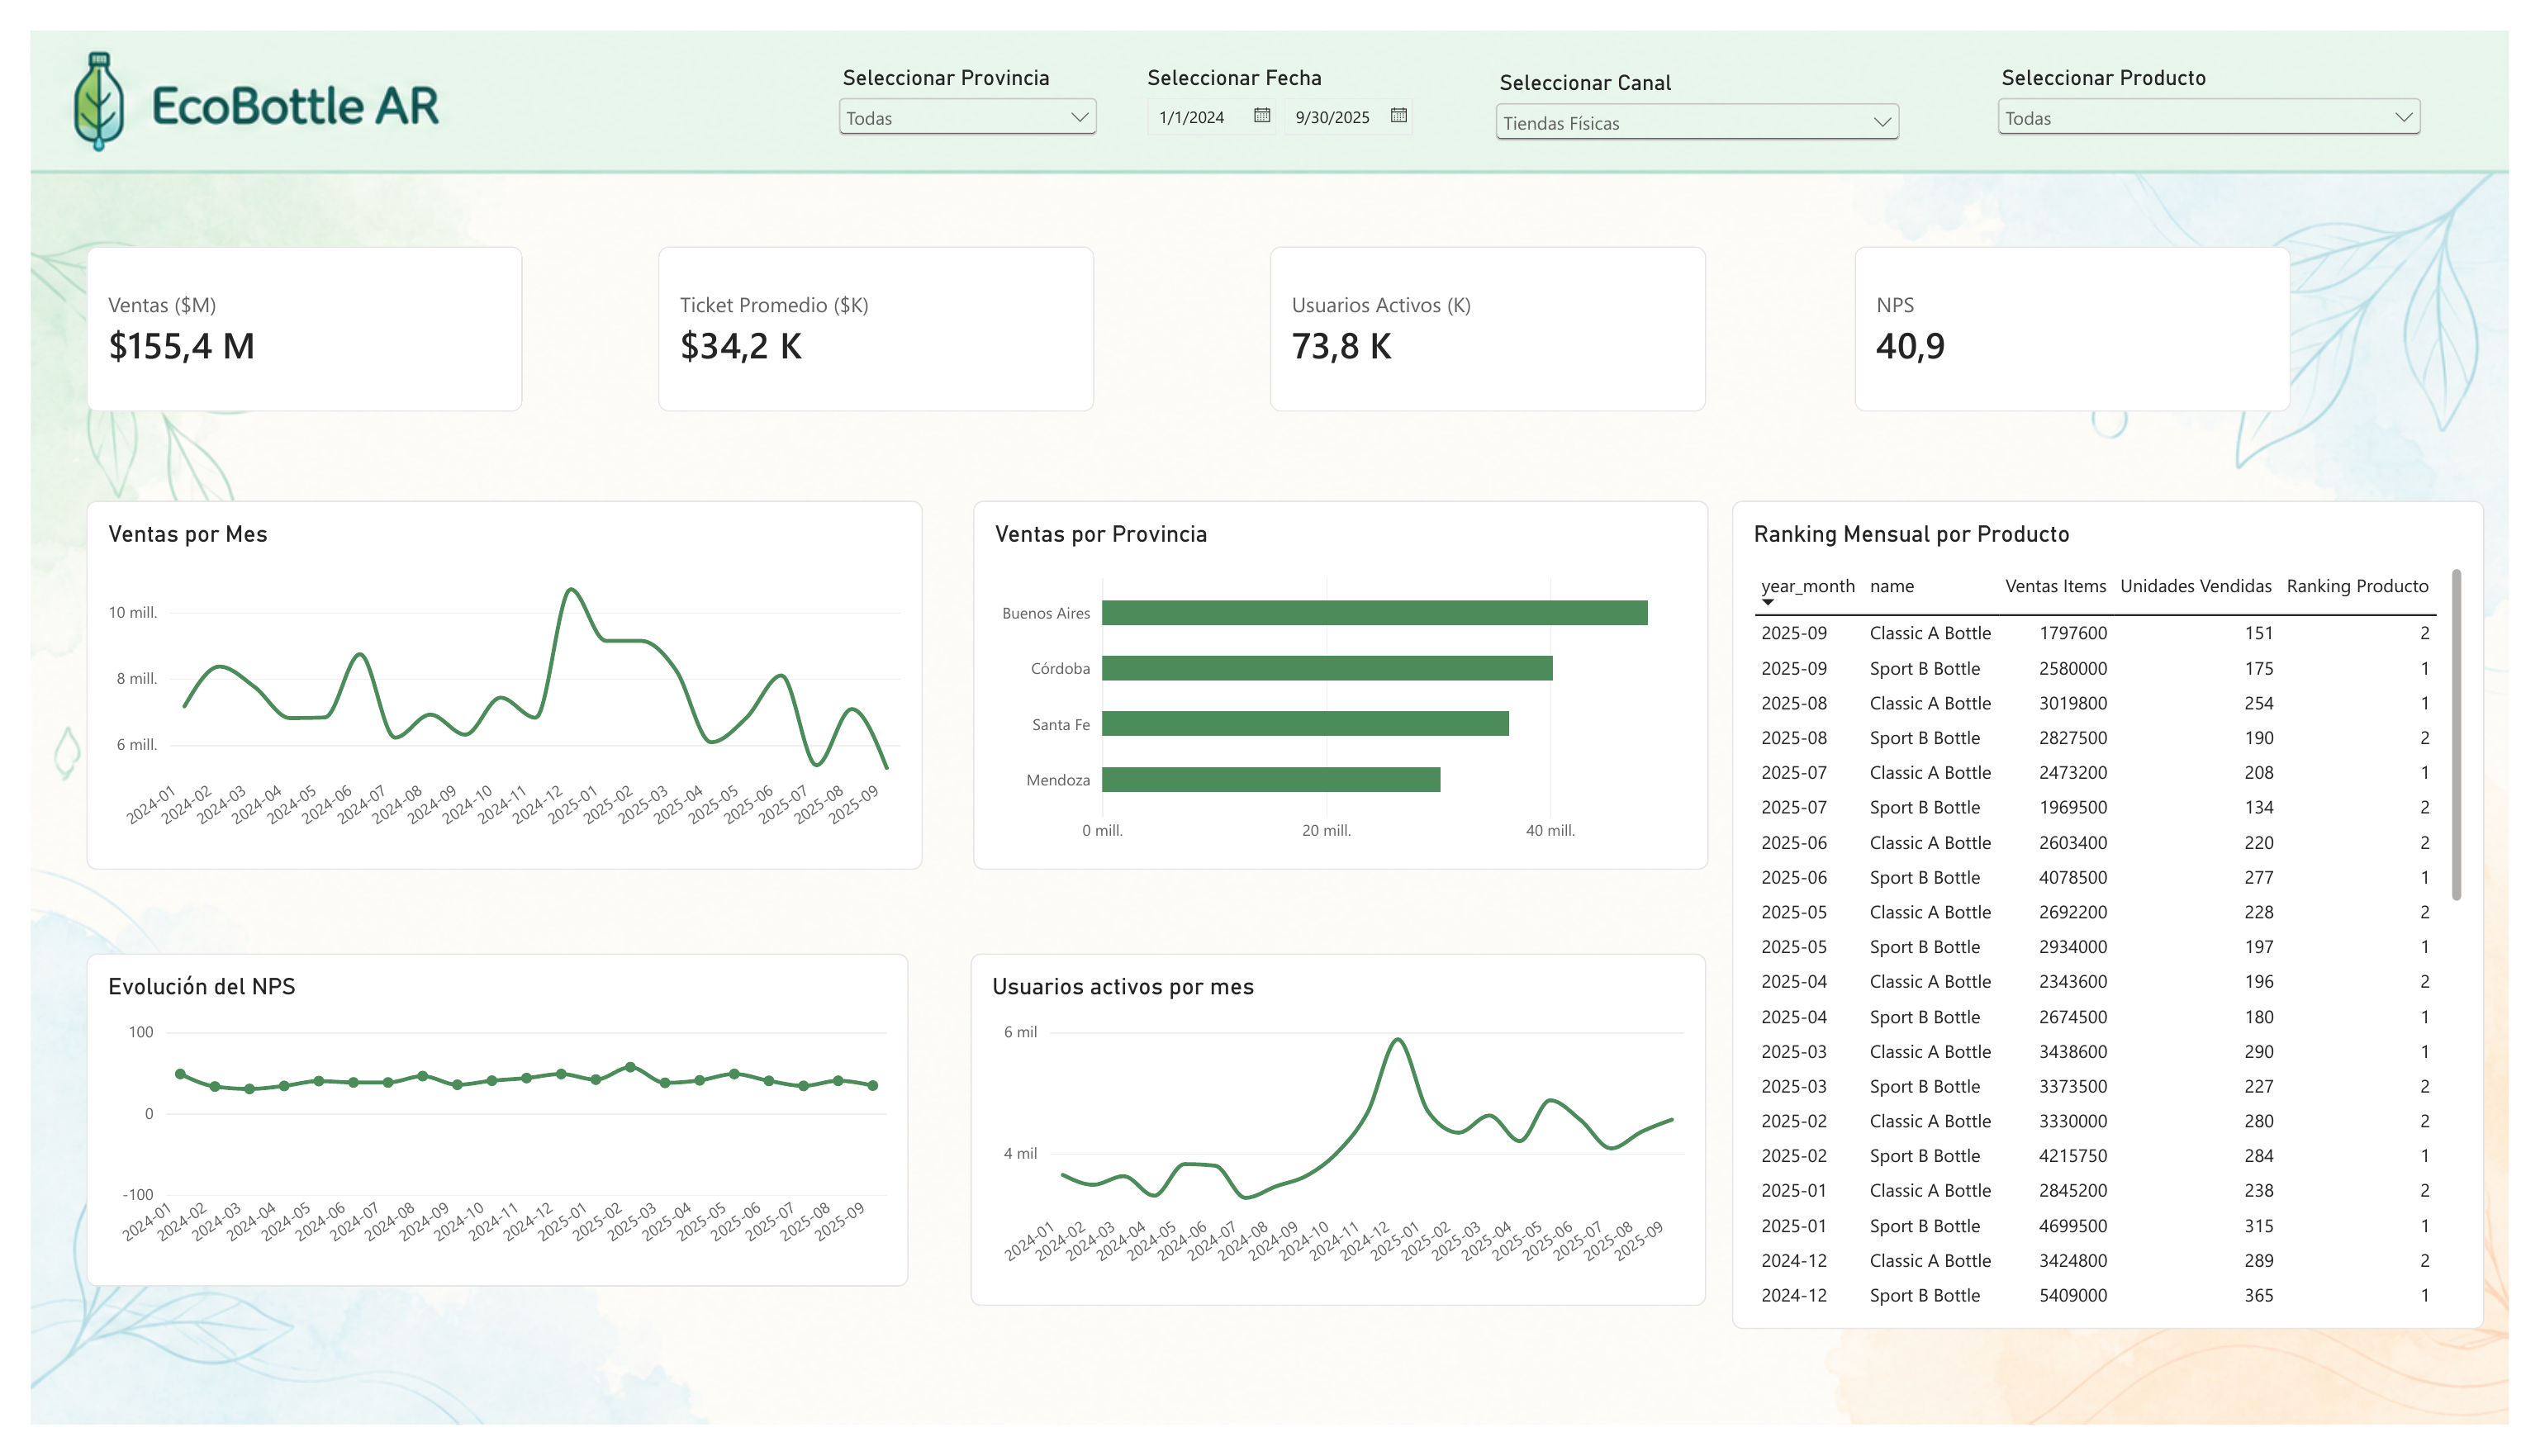

The dashboard page shown, as its layout file describes it:
{"tool":"powerbi","page":{"name":"Página 1","canvas":[1920,1080],"ordinal":0},"visuals":[{"type":"cardVisual","title":"VENTAS","fields":{"Data":["fact_sales_order.Ventas ($M)"]},"box":[42.7,167.1,337.9,128.1],"z":1},{"type":"lineChart","title":"Ventas por Mes","fields":{"Category":["dim_date.year_month"],"Y":["fact_sales_order.Ventas"]},"box":[42.7,363.9,648,286],"z":2},{"type":"barChart","title":"Ventas por Provincia","fields":{"Category":["dim_province.name"],"Y":["fact_sales_order.Ventas"]},"box":[729.7,363.9,570.1,286],"z":3},{"type":"lineChart","title":"Evolución del NPS","fields":{"Category":["dim_date.year_month"],"Y":["fact_nps.NPS"]},"box":[42.7,714.9,636.9,258.1],"z":4},{"type":"lineChart","title":"Usuarios activos por mes","fields":{"Category":["dim_date.year_month"],"Y":["fact_web_session.Usuarios Activos"]},"box":[727.9,714.9,570.1,273],"z":5},{"type":"cardVisual","fields":{"Data":["fact_sales_order.Ticket Promedio ($K)"]},"box":[486.5,167.1,337.9,128.1],"z":6},{"type":"cardVisual","fields":{"Data":["fact_web_session.Usuarios Activos (K)"]},"box":[960,167.1,337.9,128.1],"z":7},{"type":"cardVisual","fields":{"Data":["fact_nps.NPS (texto)"]},"box":[1413.1,167.1,337.9,128.1],"z":8},{"type":"tableEx","title":"Ranking Mensual por Producto","fields":{"Values":["dim_date.year_month","dim_product.name","fact_sales_item.Ventas Items","fact_sales_item.Unidades Vendidas","fact_sales_item.Ranking Producto"]},"box":[1318.4,363.9,583.1,642.5],"z":10},{"type":"slicer","fields":{"Values":["dim_province.name"]},"box":[621.3,25.5,209.8,65],"z":11},{"type":"slicer","fields":{"Values":["dim_date.full_date"]},"box":[857.4,25.5,273,154],"z":12},{"type":"slicer","fields":{"Values":["dim_channel.name"]},"box":[1129.8,29.8,323.1,76.1],"z":13},{"type":"slicer","fields":{"Values":["dim_product.name"]},"box":[1519.1,25.5,337.9,78],"z":14}]}

Visuals, with their boxes on the page's 1920x1080 design canvas (x1, y1, x2, y2). These are canvas units, not pixel positions in the 2540x1456 screenshot, which may show the page scaled, cropped or inside an application window:
"VENTAS" cardVisual: (x1=43, y1=167, x2=381, y2=295)
"Ventas por Mes" lineChart: (x1=43, y1=364, x2=691, y2=650)
"Ventas por Provincia" barChart: (x1=730, y1=364, x2=1300, y2=650)
"Evolución del NPS" lineChart: (x1=43, y1=715, x2=680, y2=973)
"Usuarios activos por mes" lineChart: (x1=728, y1=715, x2=1298, y2=988)
cardVisual - fact_sales_order.Ticket Promedio ($K): (x1=486, y1=167, x2=824, y2=295)
cardVisual - fact_web_session.Usuarios Activos (K): (x1=960, y1=167, x2=1298, y2=295)
cardVisual - fact_nps.NPS (texto): (x1=1413, y1=167, x2=1751, y2=295)
"Ranking Mensual por Producto" tableEx: (x1=1318, y1=364, x2=1902, y2=1006)
slicer - dim_province.name: (x1=621, y1=26, x2=831, y2=90)
slicer - dim_date.full_date: (x1=857, y1=26, x2=1130, y2=180)
slicer - dim_channel.name: (x1=1130, y1=30, x2=1453, y2=106)
slicer - dim_product.name: (x1=1519, y1=26, x2=1857, y2=104)
